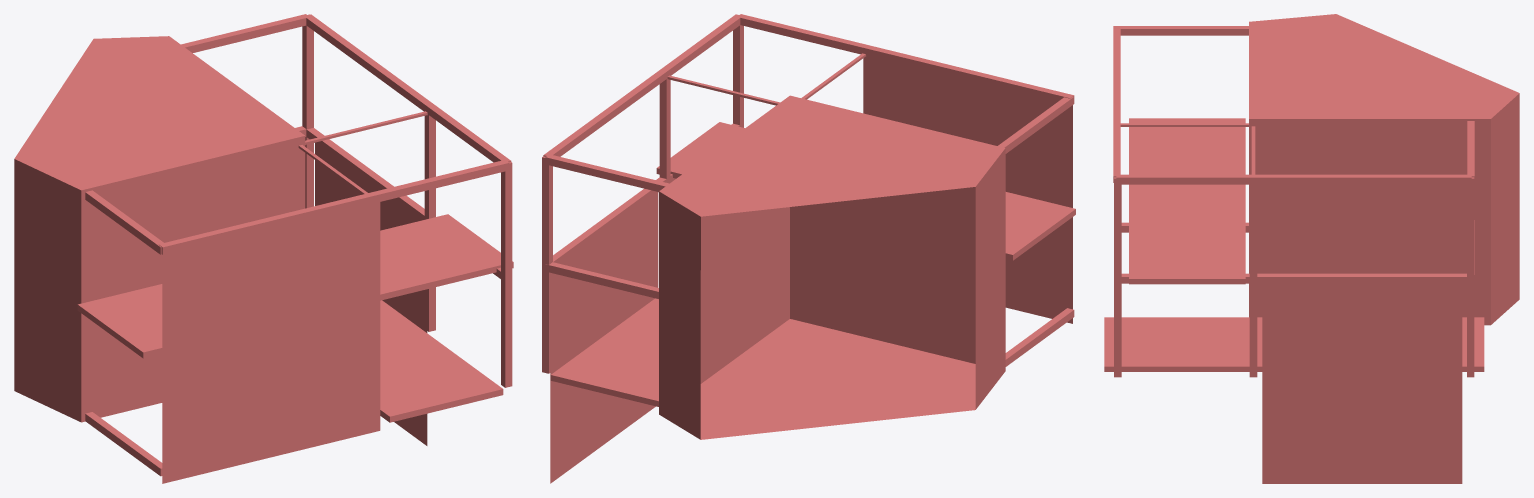
Rendered from ScaffoldGroup_01_Collider.fbx.
3 renders of one model, left to right at view 1: azimuth 30°, elevation 25°; view 2: azimuth 150°, elevation 25°; view 3: azimuth 270°, elevation 25°, orthographic. The views are drawn at different scales.
Visible parts, largest first — view 1: ScaffoldGroup_02_Scaffold_Tall_Collider; view 2: ScaffoldGroup_02_Scaffold_Tall_Collider; view 3: ScaffoldGroup_02_Scaffold_Tall_Collider.
Part boxes in pixels (x1,y1,x2,y2): ScaffoldGroup_02_Scaffold_Tall_Collider: (14, 14, 513, 483); ScaffoldGroup_02_Scaffold_Tall_Collider: (542, 14, 1075, 483); ScaffoldGroup_02_Scaffold_Tall_Collider: (1104, 14, 1519, 483).
Size of the model in its own units: 14.47 by 12.56 by 15.31.
